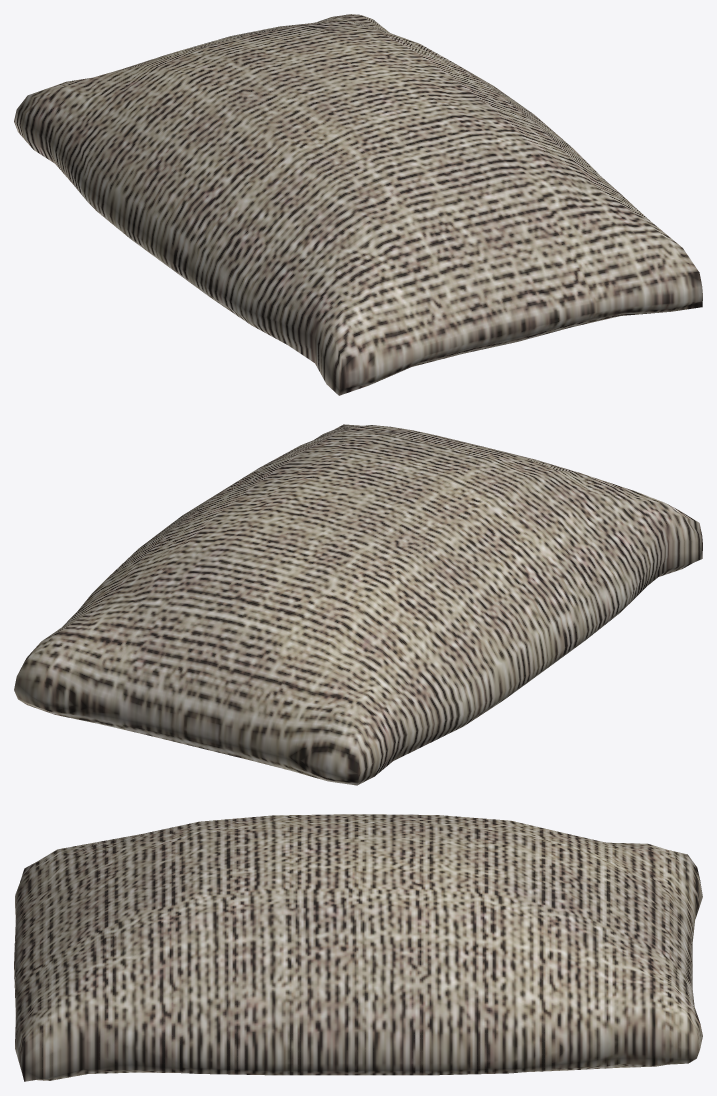
Rendered from Flour_Sack.FBX.
3 renders of one model, top to bottom at view 1: azimuth 30°, elevation 25°; view 2: azimuth 150°, elevation 25°; view 3: azimuth 270°, elevation 25°, orthographic.
Parts seen in each view (by area): view 1: Sack; view 2: Sack; view 3: Sack.
Boxes of the visible parts, x1,y1,x2,y2 form: Sack: [14, 14, 702, 395]; Sack: [14, 424, 702, 785]; Sack: [14, 814, 702, 1081].
Size of the model in its own units: 294 by 112 by 442.
Materials: 1 (1 with a texture image).
